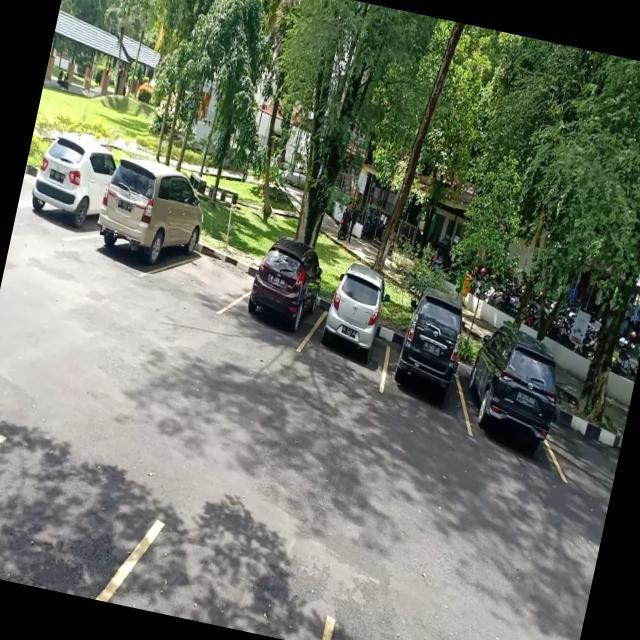empty: (164, 236, 258, 322)
occupied: (86, 176, 208, 285), (453, 344, 568, 459), (22, 139, 114, 244), (304, 280, 401, 378), (378, 318, 476, 413), (238, 260, 324, 342)
